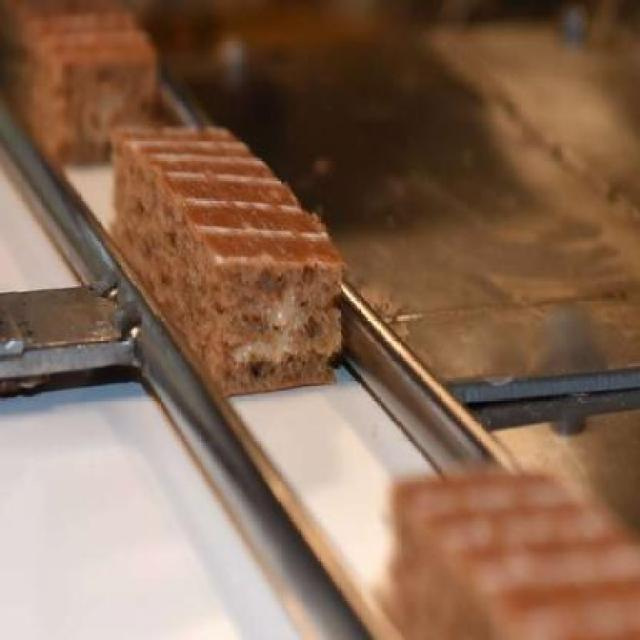Merendine packaged: (106, 120, 346, 400)
